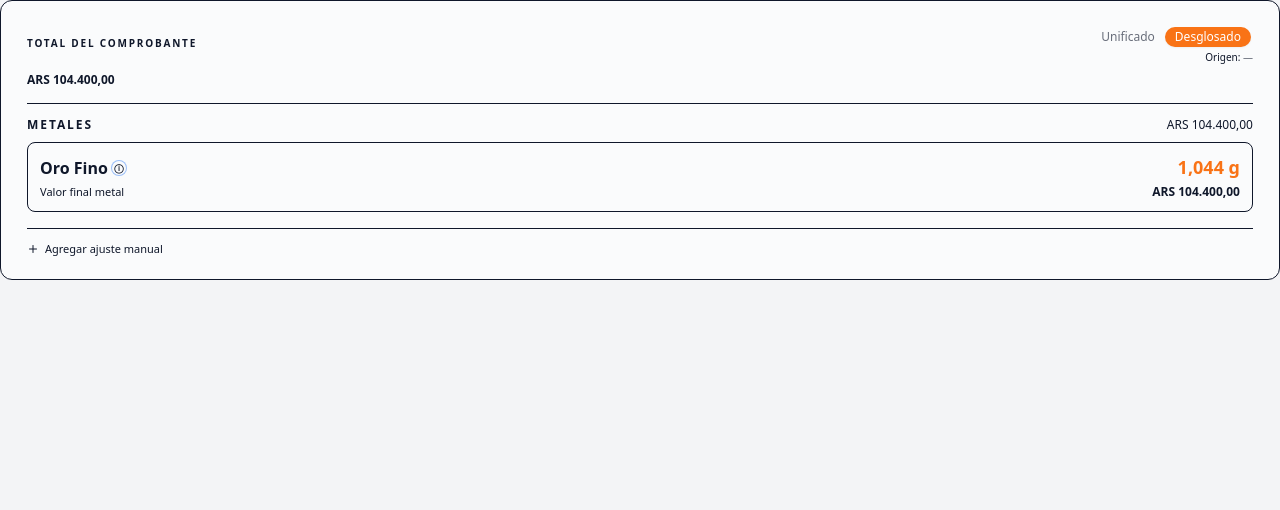
Test: TotalDelComprobanteCard — Bug 2: Ajuste manual BREAKDOWN usa postGrams › (3b) editor abierto SIN redondeo físico → preGrams arranca en los gramos crudos (intacto)
Click the button with test id "total-card-manual-adjustment-open" at x=95, y=249, box [27,240,163,257]
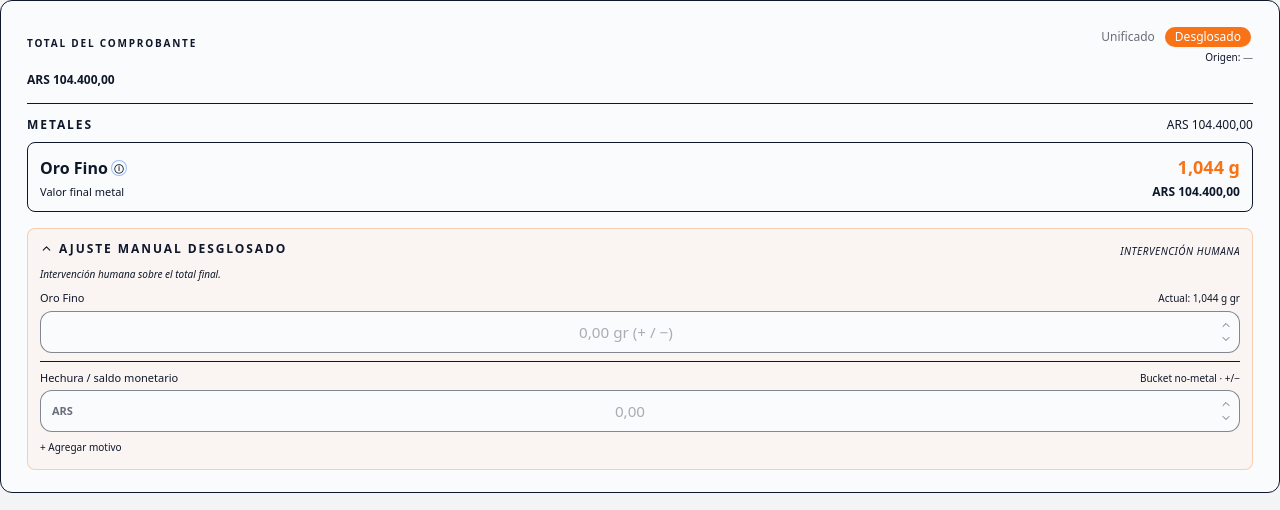
Expected: the element with test id "total-card-manual-adjustment-breakdown-editor" shows "Oro Fino", [40,290,84,305]
Expected: the element with test id "total-card-manual-adjustment-breakdown-editor" shows "1,044", [1193,291,1240,305]
